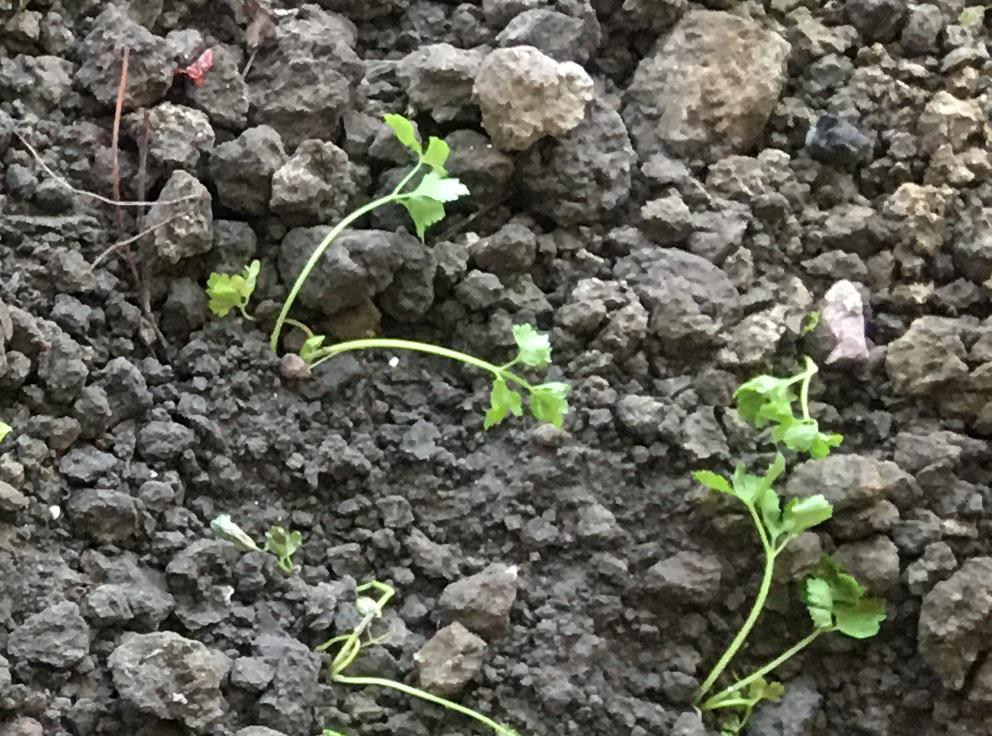block: (629, 7, 782, 165), (617, 242, 749, 349), (209, 124, 345, 219), (469, 48, 590, 154), (918, 549, 992, 699), (110, 630, 224, 727), (277, 225, 413, 302)
